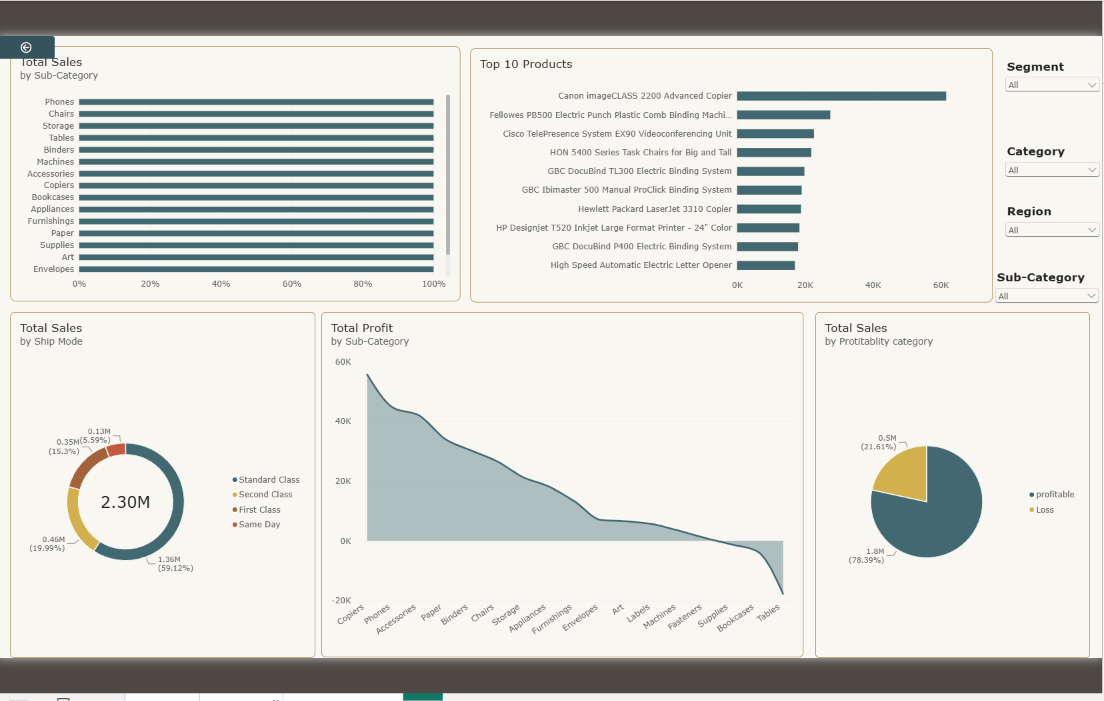

What the dashboard file says about the page in this screenshot:
{"tool":"powerbi","page":{"name":"product","canvas":[1920,1080],"ordinal":1},"visuals":[{"type":"hundredPercentStackedBarChart","fields":{"Category":["Orders.Sub-Category"],"Y":["Orders.Total Sales"]},"box":[22,18,782,444],"z":0},{"type":"stackedAreaChart","fields":{"Category":["Orders.Sub-Category"],"Y":["Orders.Total Profit"]},"box":[564,480,838,600],"z":1000},{"type":"clusteredBarChart","title":"Top 10 Products","fields":{"Category":["Orders.Product Name"],"Y":["Orders.Total Sales"]},"box":[822,20,908,442],"z":2000},{"type":"donutChart","fields":{"Category":["Orders.Ship Mode"],"Y":["Orders.Total Sales"]},"box":[22,480,530.3,601.1],"z":3000},{"type":"pieChart","fields":{"Category":["Orders.Protitablity category"],"Y":["Orders.Total Sales"]},"box":[1422,480,477.6,601.1],"z":4000},{"type":"slicer","fields":{"Values":["Orders.Category"]},"box":[1746,188,174,144],"z":5000},{"type":"slicer","fields":{"Values":["Orders.Sub-Category"]},"box":[1730,406,190,88],"z":6000},{"type":"slicer","fields":{"Values":["Orders.Region"]},"box":[1746,292,174,80],"z":7000},{"type":"slicer","fields":{"Values":["Orders.Segment"]},"box":[1746,40,174,80],"z":8000},{"type":"actionButton","box":[0,0,100,40],"z":9000}]}

Visuals, with their boxes on the page's 1920x1080 design canvas (x1, y1, x2, y2). These are canvas units, not pixel positions in the 1104x701 screenshot, which may show the page scaled, cropped or inside an application window:
hundredPercentStackedBarChart - Orders.Sub-Category x Orders.Total Sales: 22 18 804 462
stackedAreaChart - Orders.Sub-Category x Orders.Total Profit: 564 480 1402 1080
"Top 10 Products" clusteredBarChart: 822 20 1730 462
donutChart - Orders.Ship Mode x Orders.Total Sales: 22 480 552 1081
pieChart - Orders.Protitablity category x Orders.Total Sales: 1422 480 1900 1081
slicer - Orders.Category: 1746 188 1920 332
slicer - Orders.Sub-Category: 1730 406 1920 494
slicer - Orders.Region: 1746 292 1920 372
slicer - Orders.Segment: 1746 40 1920 120
actionButton: 0 0 100 40
